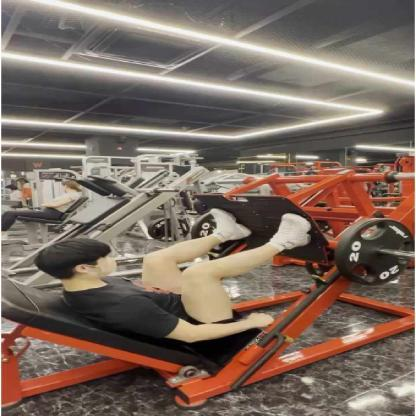leg press: (0, 159, 416, 416)
